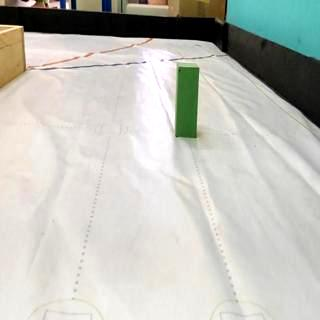greenbox: (176, 64, 198, 138)
